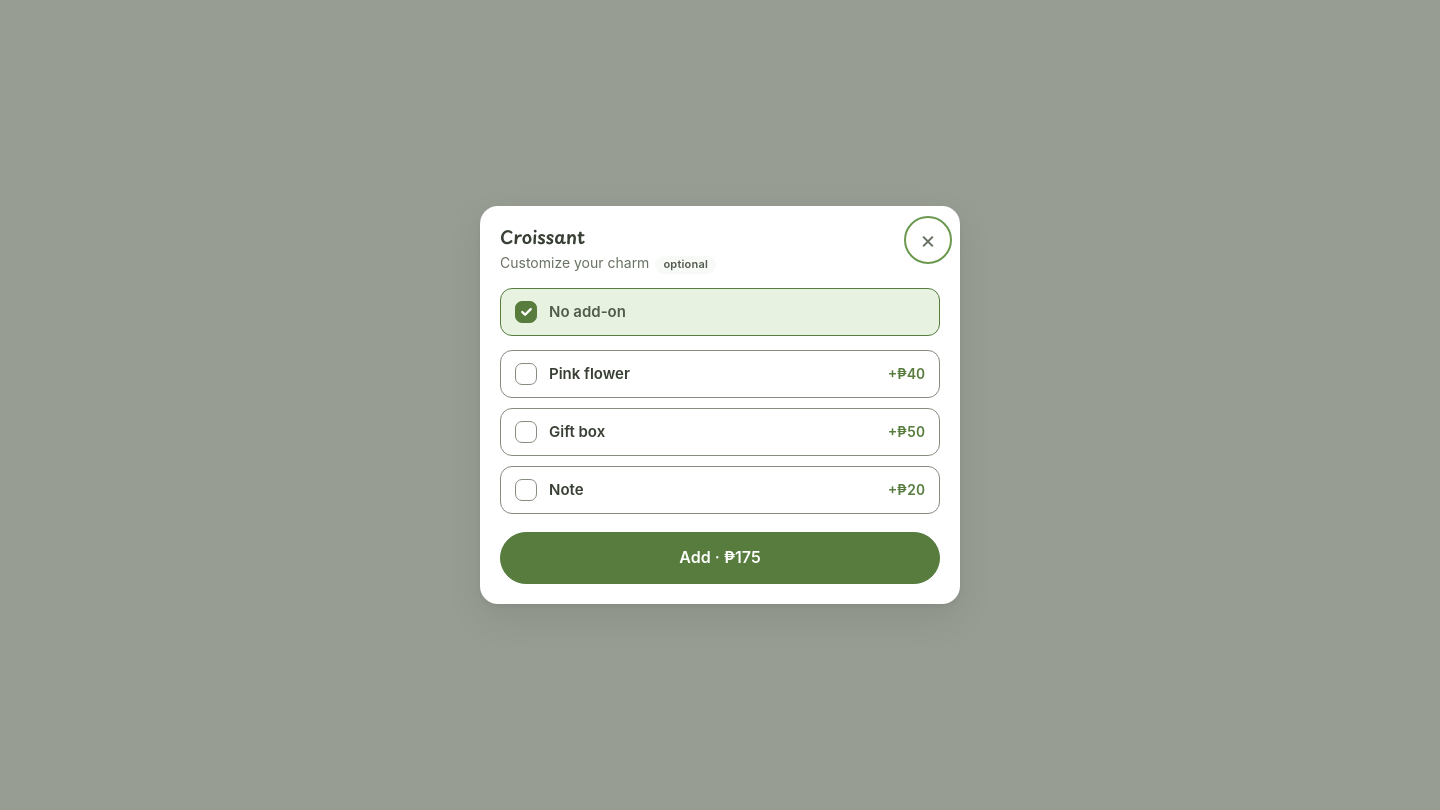
Test: the add-on picker's running price › charges for every extra when the piece includes none
What coordinates should you click on to do the following:
click the checkbox labelled "Pink flower +₱40"
I would click on:
 (526, 374)
Its box is [515,363,537,385].
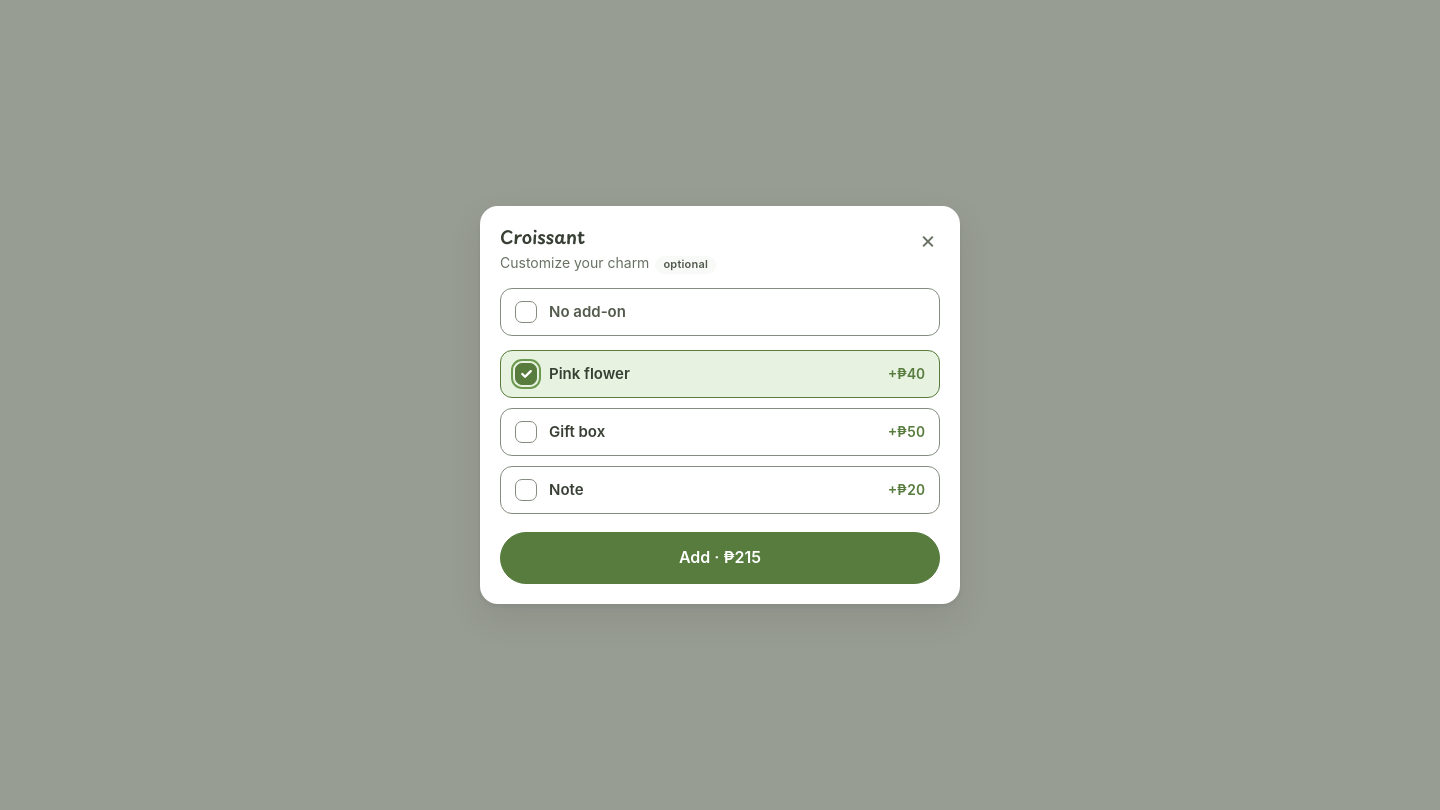
expect the button "Add · ₱215" is shown: met, box [500,532,940,584]
